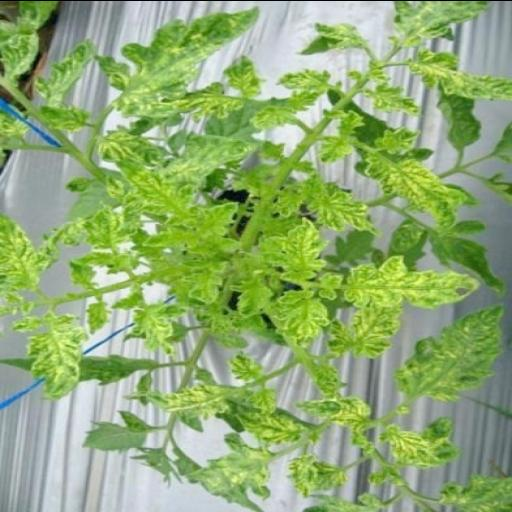Yellow Leaf Curl Virus: (95, 4, 262, 110), (388, 301, 508, 403), (360, 150, 466, 236), (340, 254, 482, 308), (182, 431, 274, 512), (296, 172, 384, 238), (402, 48, 512, 100), (26, 323, 92, 401), (0, 210, 52, 292), (28, 34, 96, 96), (390, 0, 490, 42), (271, 288, 329, 346), (97, 122, 173, 166), (280, 214, 328, 280), (379, 422, 447, 468), (284, 451, 349, 499), (435, 472, 512, 512), (162, 382, 238, 422), (128, 299, 177, 357), (292, 394, 372, 426), (218, 54, 268, 96), (32, 104, 92, 130)
